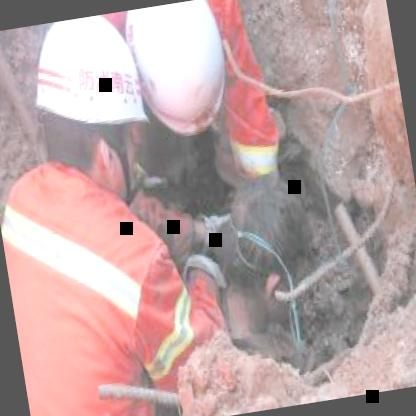helmet: (20, 12, 156, 208), (129, 0, 250, 162)
